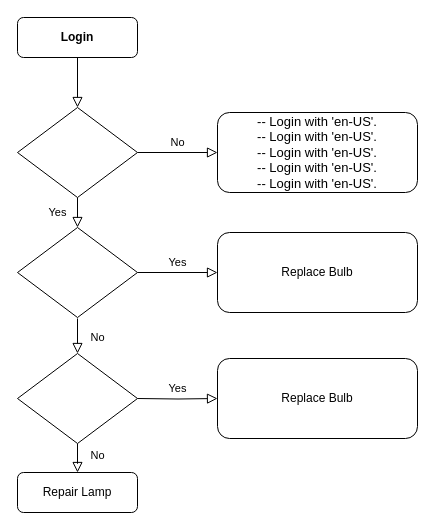
This 435x530 diagram has some shape labels left out. Here are the shapes that lost their labels. From the top down, the centre of each, then its label:
At [77,152]: "Tenant available locales ??".
At [77,272]: "User Preferred locale ??".
At [77,398]: "Tenant default locale ??".
